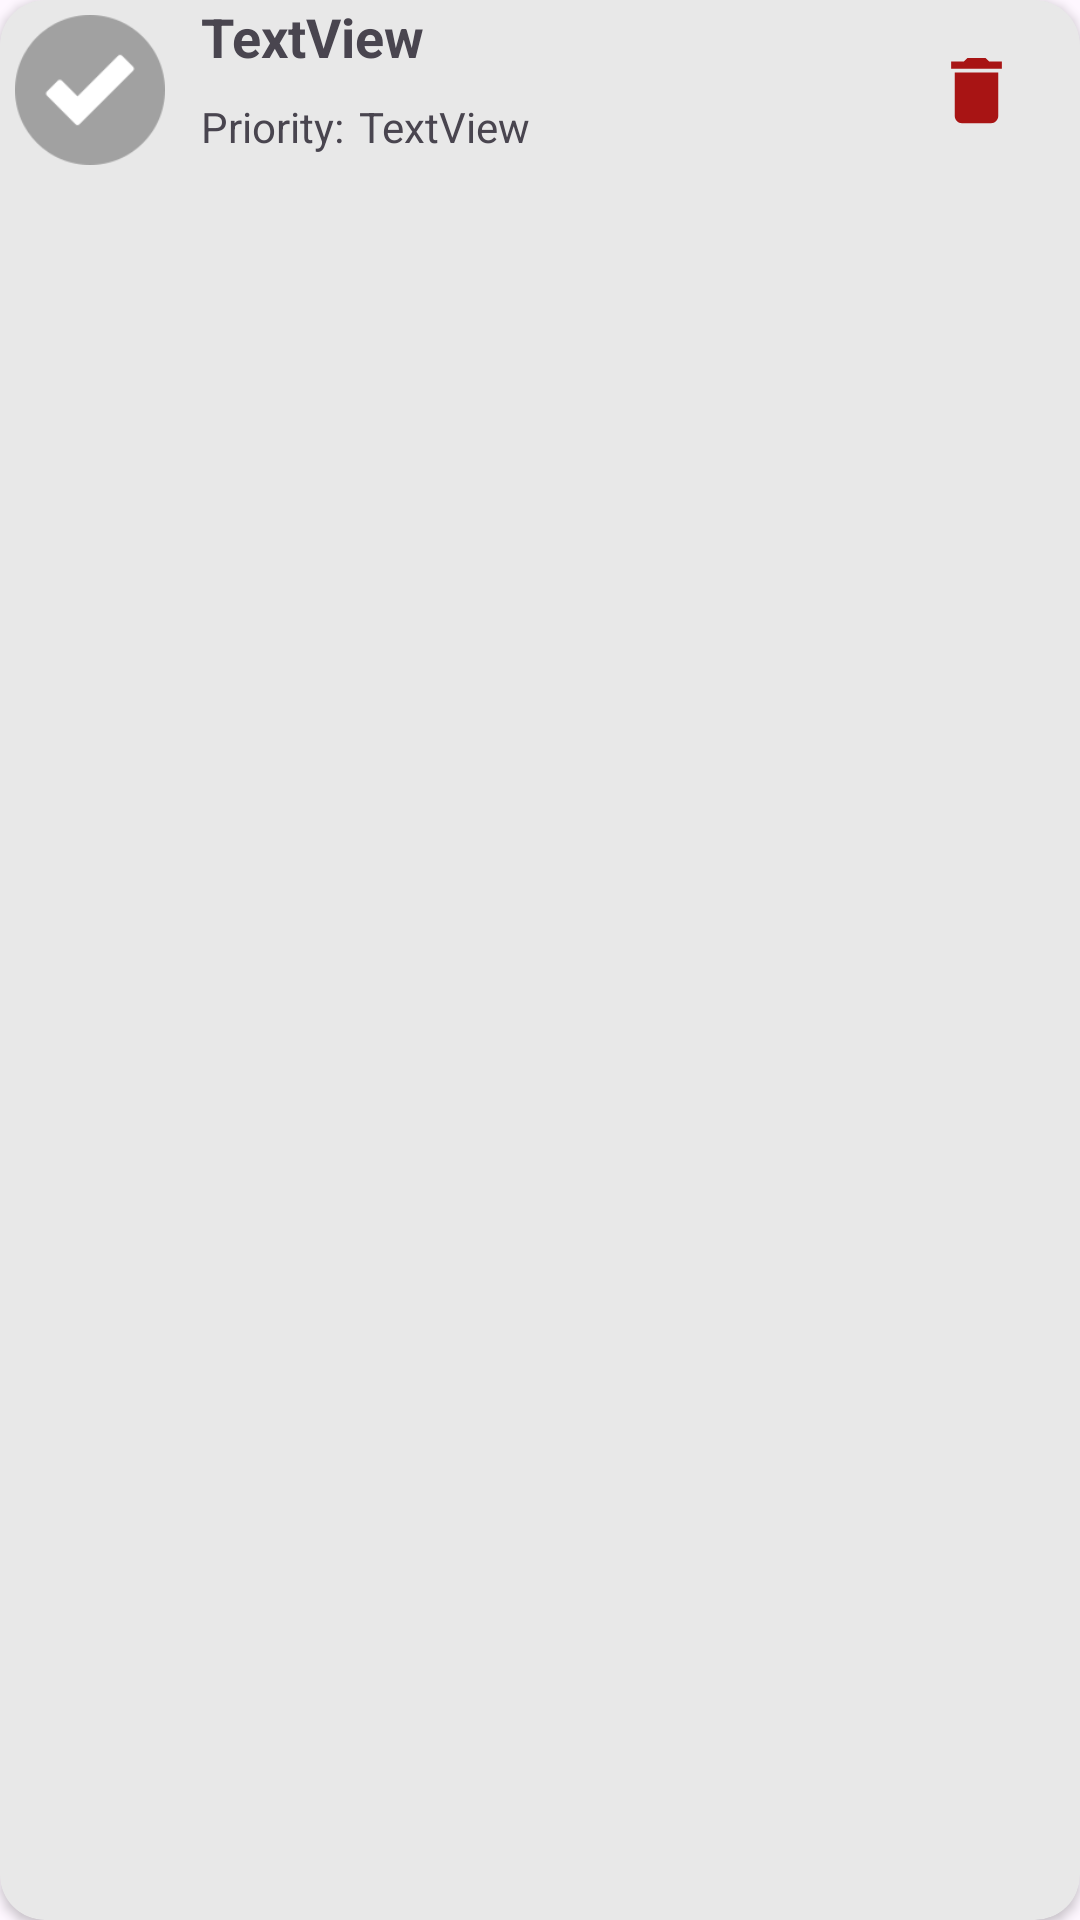

Where to tap for icons on this 1080w x 1920h app screen, as [x,y]:
Delete Button: [976,91]
Tick Image: [90,90]
